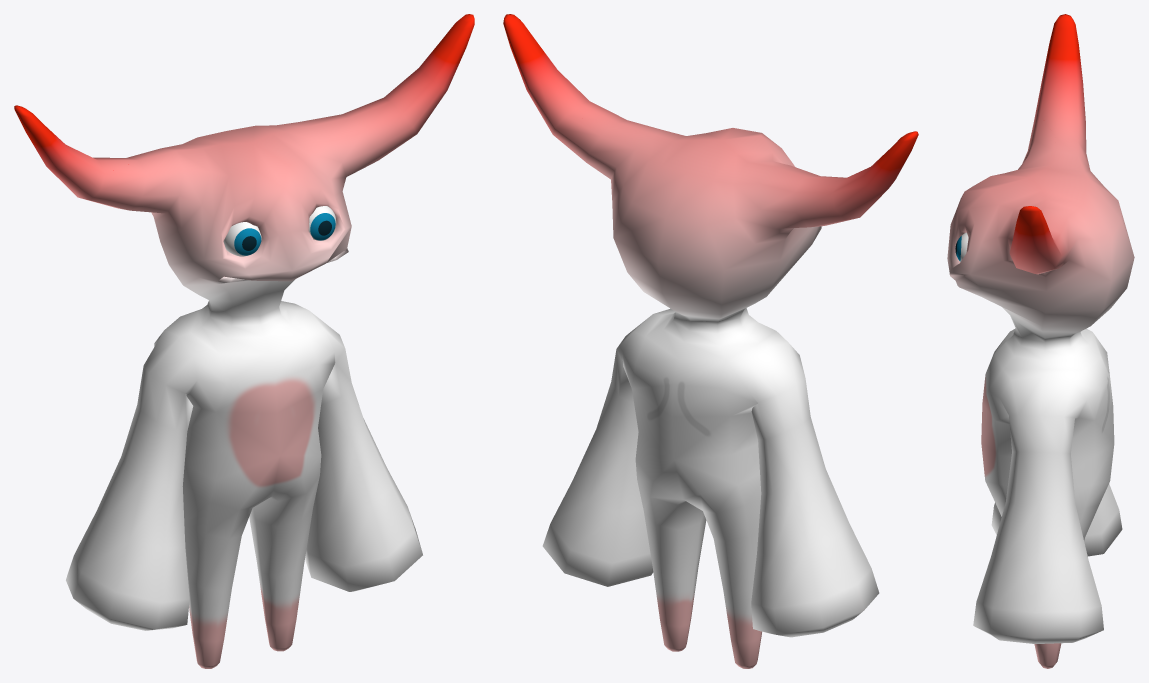
The model's file is frame22.obj.
3 views of the same model, side by side, from view 1: azimuth 30°, elevation 25°; view 2: azimuth 150°, elevation 25°; view 3: azimuth 270°, elevation 25° (orthographic). The views are drawn at different scales.
Parts seen in each view (by area): view 1: Body, Right_Eye, Left_Eye; view 2: Body; view 3: Body.
Part boxes in pixels (x1,y1,x2,y2): Body: (14,14,474,668); Right_Eye: (223,222,261,256); Left_Eye: (308,206,336,240); Body: (503,14,918,668); Body: (947,14,1134,668).
Size of the model in its own units: 13.86 by 18.07 by 5.67.
